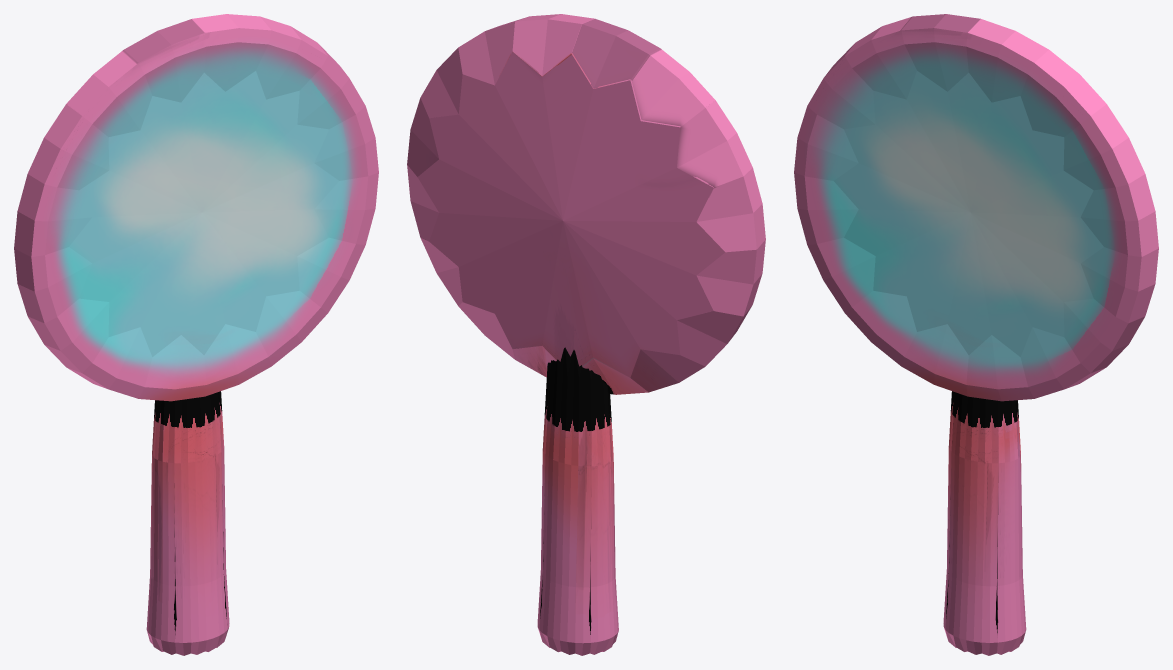
The model's file is lusterko.fbx.
The picture shows the model from 3 angles, left to right: view 1: azimuth 30°, elevation 25°; view 2: azimuth 150°, elevation 25°; view 3: azimuth 330°, elevation 25°; orthographic projection.
Parts seen in each view (by area): view 1: Cylinder; view 2: Cylinder; view 3: Cylinder.
Part boxes in pixels (x1,y1,x2,y2): Cylinder: [14, 14, 378, 655]; Cylinder: [407, 14, 765, 655]; Cylinder: [794, 14, 1158, 655].
Size of the model in its own units: 558 by 947 by 102.
